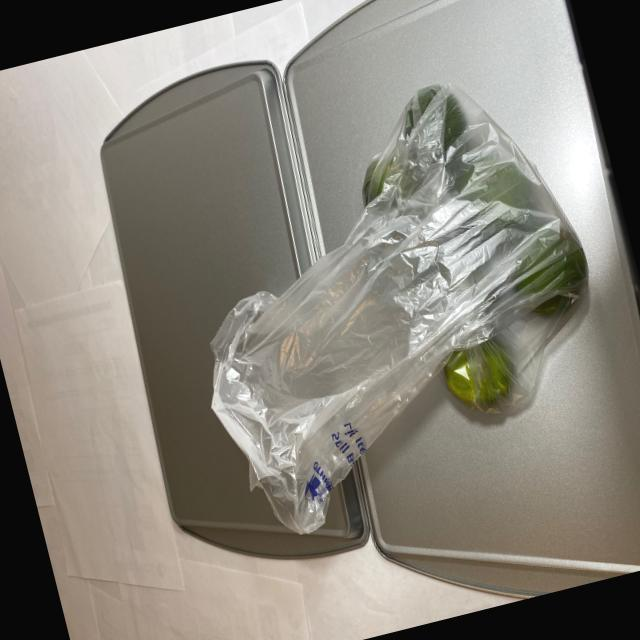lemon: (337, 59, 609, 434)
